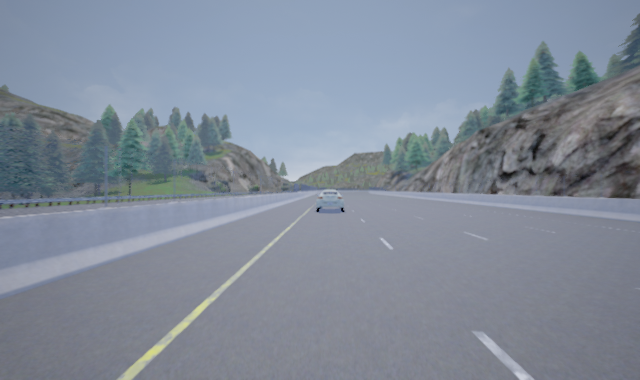vehicle: (315, 189, 345, 212)
